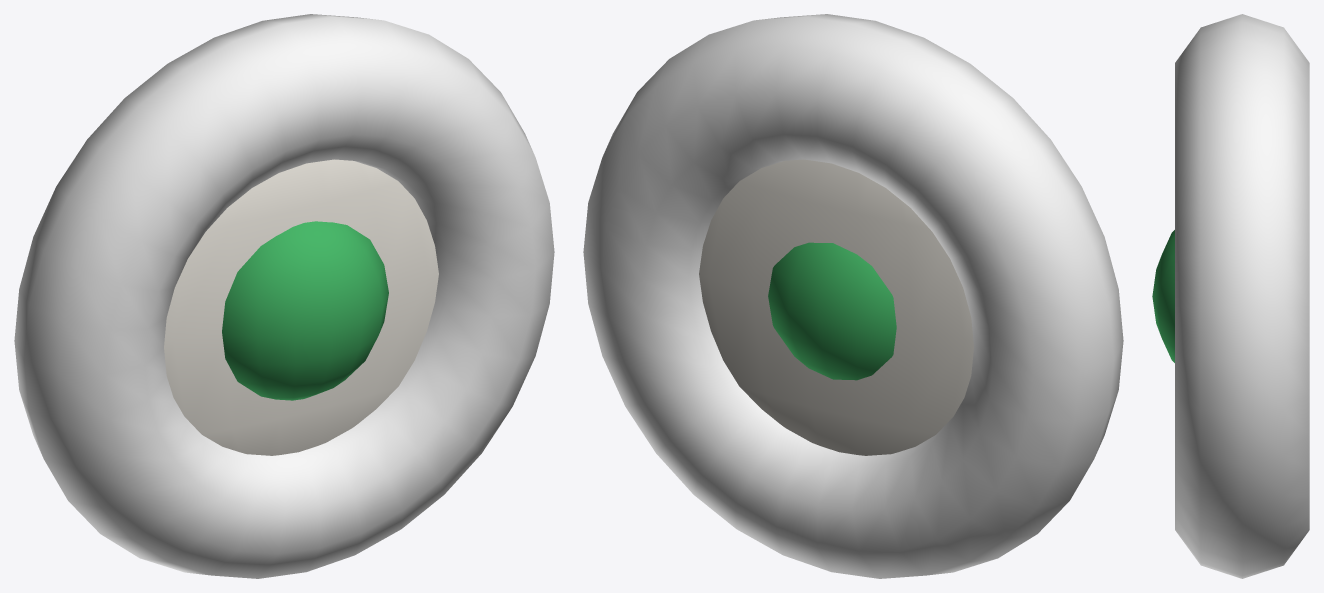
File: git_issue_open.glb
The picture shows the model from 3 angles, left to right: view 1: azimuth 30°, elevation 25°; view 2: azimuth 150°, elevation 25°; view 3: azimuth 270°, elevation 25°; orthographic projection. The views are drawn at different scales.
Visible parts, largest first — view 1: git_issue_open; view 2: git_issue_open; view 3: git_issue_open.
Boxes of the visible parts, <box> form: git_issue_open: <box>14,14,554,578</box>; git_issue_open: <box>583,14,1123,578</box>; git_issue_open: <box>1152,14,1309,578</box>.
Bounding box in the file's own units: 1 × 1 × 0.278.
